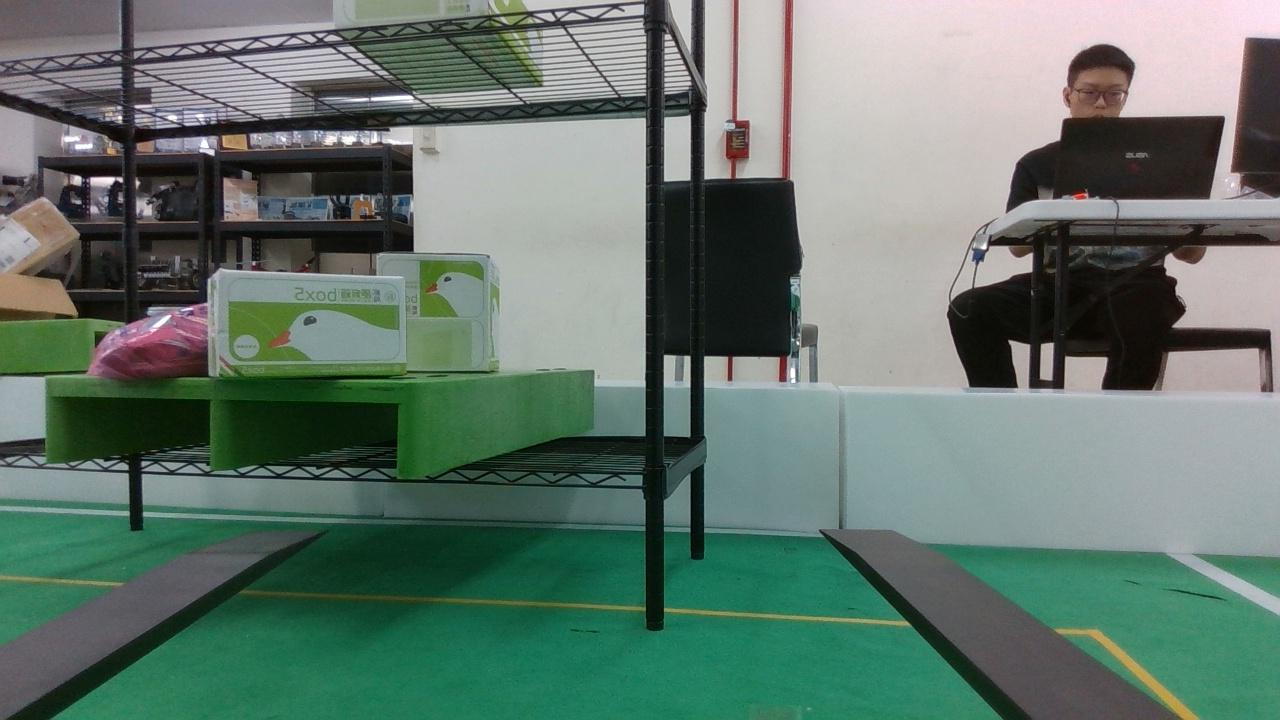Pallet: (42, 376, 425, 483)
